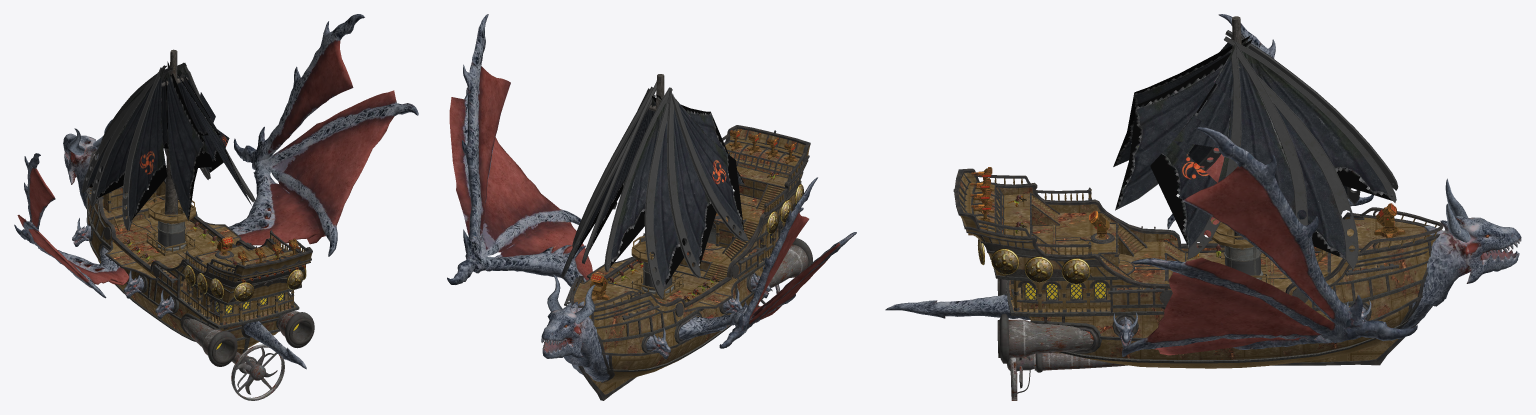
File: galleon.glb
3 views of the same model, side by side, from view 1: azimuth 30°, elevation 25°; view 2: azimuth 150°, elevation 25°; view 3: azimuth 270°, elevation 25° (orthographic). The views are drawn at different scales.
Visible parts, largest first — view 1: hullmain-geometry, R_wing02-geometry.001, R_wing03, L_sail04, R_wing01-geometry.001, L_sail05, L_sail03, L_Booster, L_wing03, turret01-arms-geometry.005, propeller-geometry, R_Booster (+11 smaller); view 2: hullmain-geometry, R_wing02-geometry.001, R_wing03, L_sail03, L_sail02, L_sail04, R_wing01-geometry.001, L_sail01, turret01-arms-geometry.005, L_wing03, R_sail01, L_wing02-geometry.001 (+9 smaller); view 3: hullmain-geometry, R_wing02-geometry.001, R_wing03, R_sail01, R_sail04, R_sail05, R_sail02, R_sail03, turret01-arms-geometry.005, R_Booster, bottomplateA-geometry, propeller-geometry (+11 smaller).
Part boxes in pixels (x1,y1,x2,y2): hullmain-geometry: [85, 150, 312, 341]; R_wing02-geometry.001: [252, 90, 418, 256]; R_wing03: [233, 14, 364, 162]; L_sail04: [122, 67, 167, 230]; R_wing01-geometry.001: [228, 168, 320, 245]; L_sail05: [167, 61, 204, 220]; L_sail03: [90, 65, 166, 206]; L_Booster: [183, 318, 237, 366]; L_wing03: [14, 153, 55, 244]; turret01-arms-geometry.005: [63, 119, 112, 208]; propeller-geometry: [231, 344, 284, 400]; R_Booster: [278, 311, 314, 348]; hullmain-geometry: [564, 125, 810, 371]; R_wing02-geometry.001: [449, 87, 581, 273]; R_wing03: [447, 14, 510, 284]; L_sail03: [667, 90, 716, 278]; L_sail02: [644, 98, 685, 299]; L_sail04: [670, 94, 748, 241]; R_wing01-geometry.001: [485, 222, 592, 286]; L_sail01: [604, 87, 672, 271]; turret01-arms-geometry.005: [541, 274, 601, 367]; L_wing03: [719, 177, 817, 348]; R_sail01: [582, 82, 656, 263]; L_wing02-geometry.001: [732, 232, 856, 331]; hullmain-geometry: [953, 168, 1443, 363]; R_wing02-geometry.001: [1122, 257, 1359, 356]; R_wing03: [1183, 127, 1417, 340]; R_sail01: [1195, 36, 1396, 202]; R_sail04: [1150, 45, 1241, 259]; R_sail05: [1115, 39, 1252, 210]; R_sail02: [1230, 51, 1358, 269]; R_sail03: [1218, 41, 1307, 225]; turret01-arms-geometry.005: [1421, 178, 1521, 306]; R_Booster: [997, 314, 1093, 363]; bottomplateA-geometry: [1049, 306, 1432, 368]; propeller-geometry: [1007, 352, 1127, 400].
Bounding box in the file's own units: 30.82 × 23.18 × 34.88.
14 materials, 12 textured.
